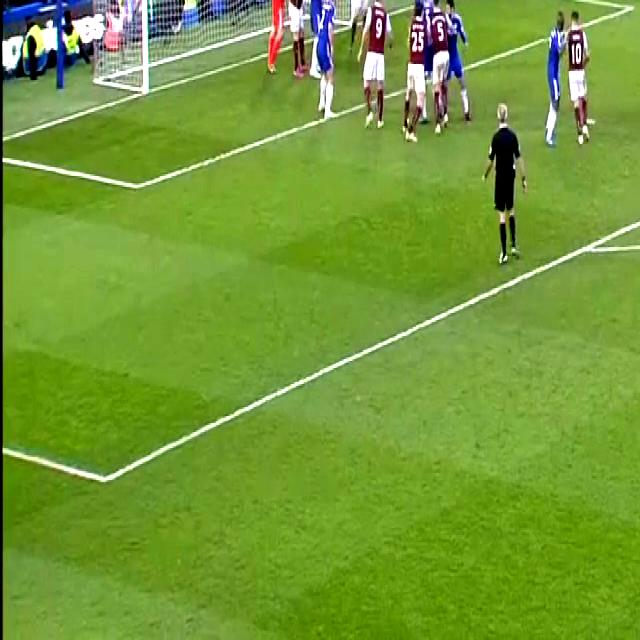goalkeeper: (262, 0, 294, 80)
referee: (479, 93, 528, 276)
soccer-player: (559, 0, 598, 151), (354, 0, 391, 140), (541, 0, 573, 154), (437, 0, 471, 139), (402, 3, 431, 144), (427, 0, 456, 137), (306, 0, 337, 128), (288, 0, 309, 87), (404, 0, 439, 16)
